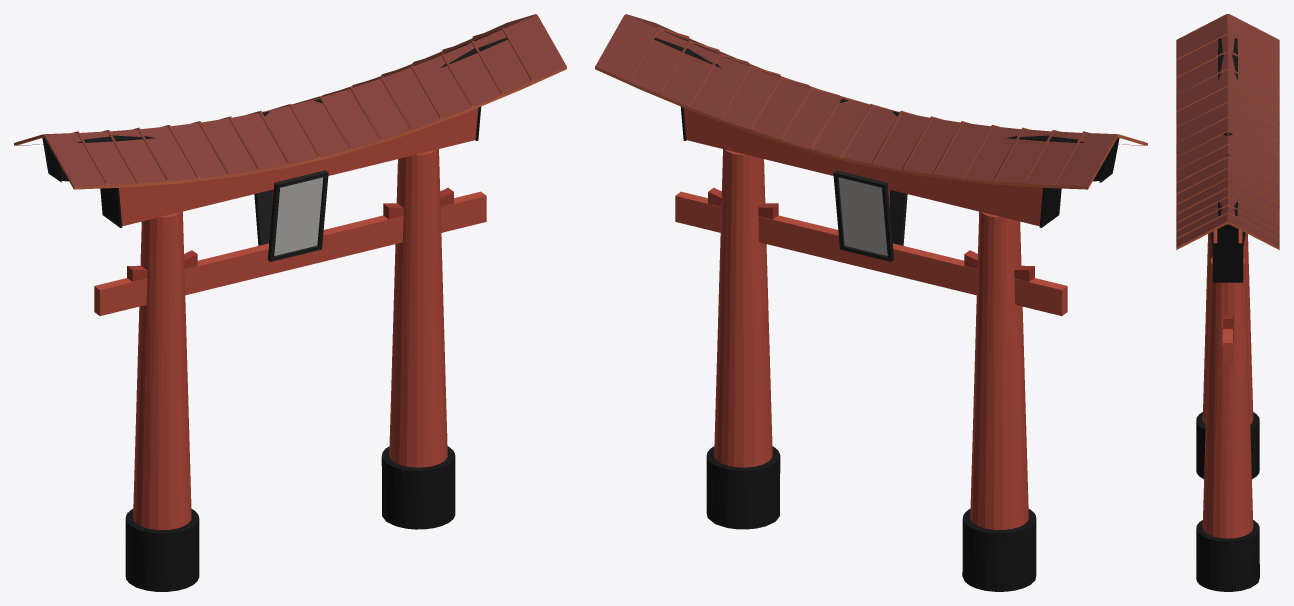
File: torii.glb
3 views of the same model, side by side, from view 1: azimuth 30°, elevation 25°; view 2: azimuth 150°, elevation 25°; view 3: azimuth 270°, elevation 25° (orthographic). The views are drawn at different scales.
Parts seen in each view (by area): view 1: torii; view 2: torii; view 3: torii.
Boxes of the visible parts, bbox=[...] form: torii: bbox=[14, 14, 566, 591]; torii: bbox=[595, 14, 1147, 591]; torii: bbox=[1176, 14, 1279, 591].
Bounding box in the file's own units: 1 × 0.9119 × 0.2101.
